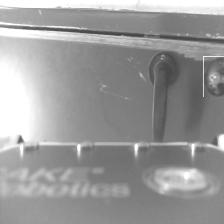Door Handle: (148, 50, 180, 142)
Lock: (203, 56, 224, 97)
